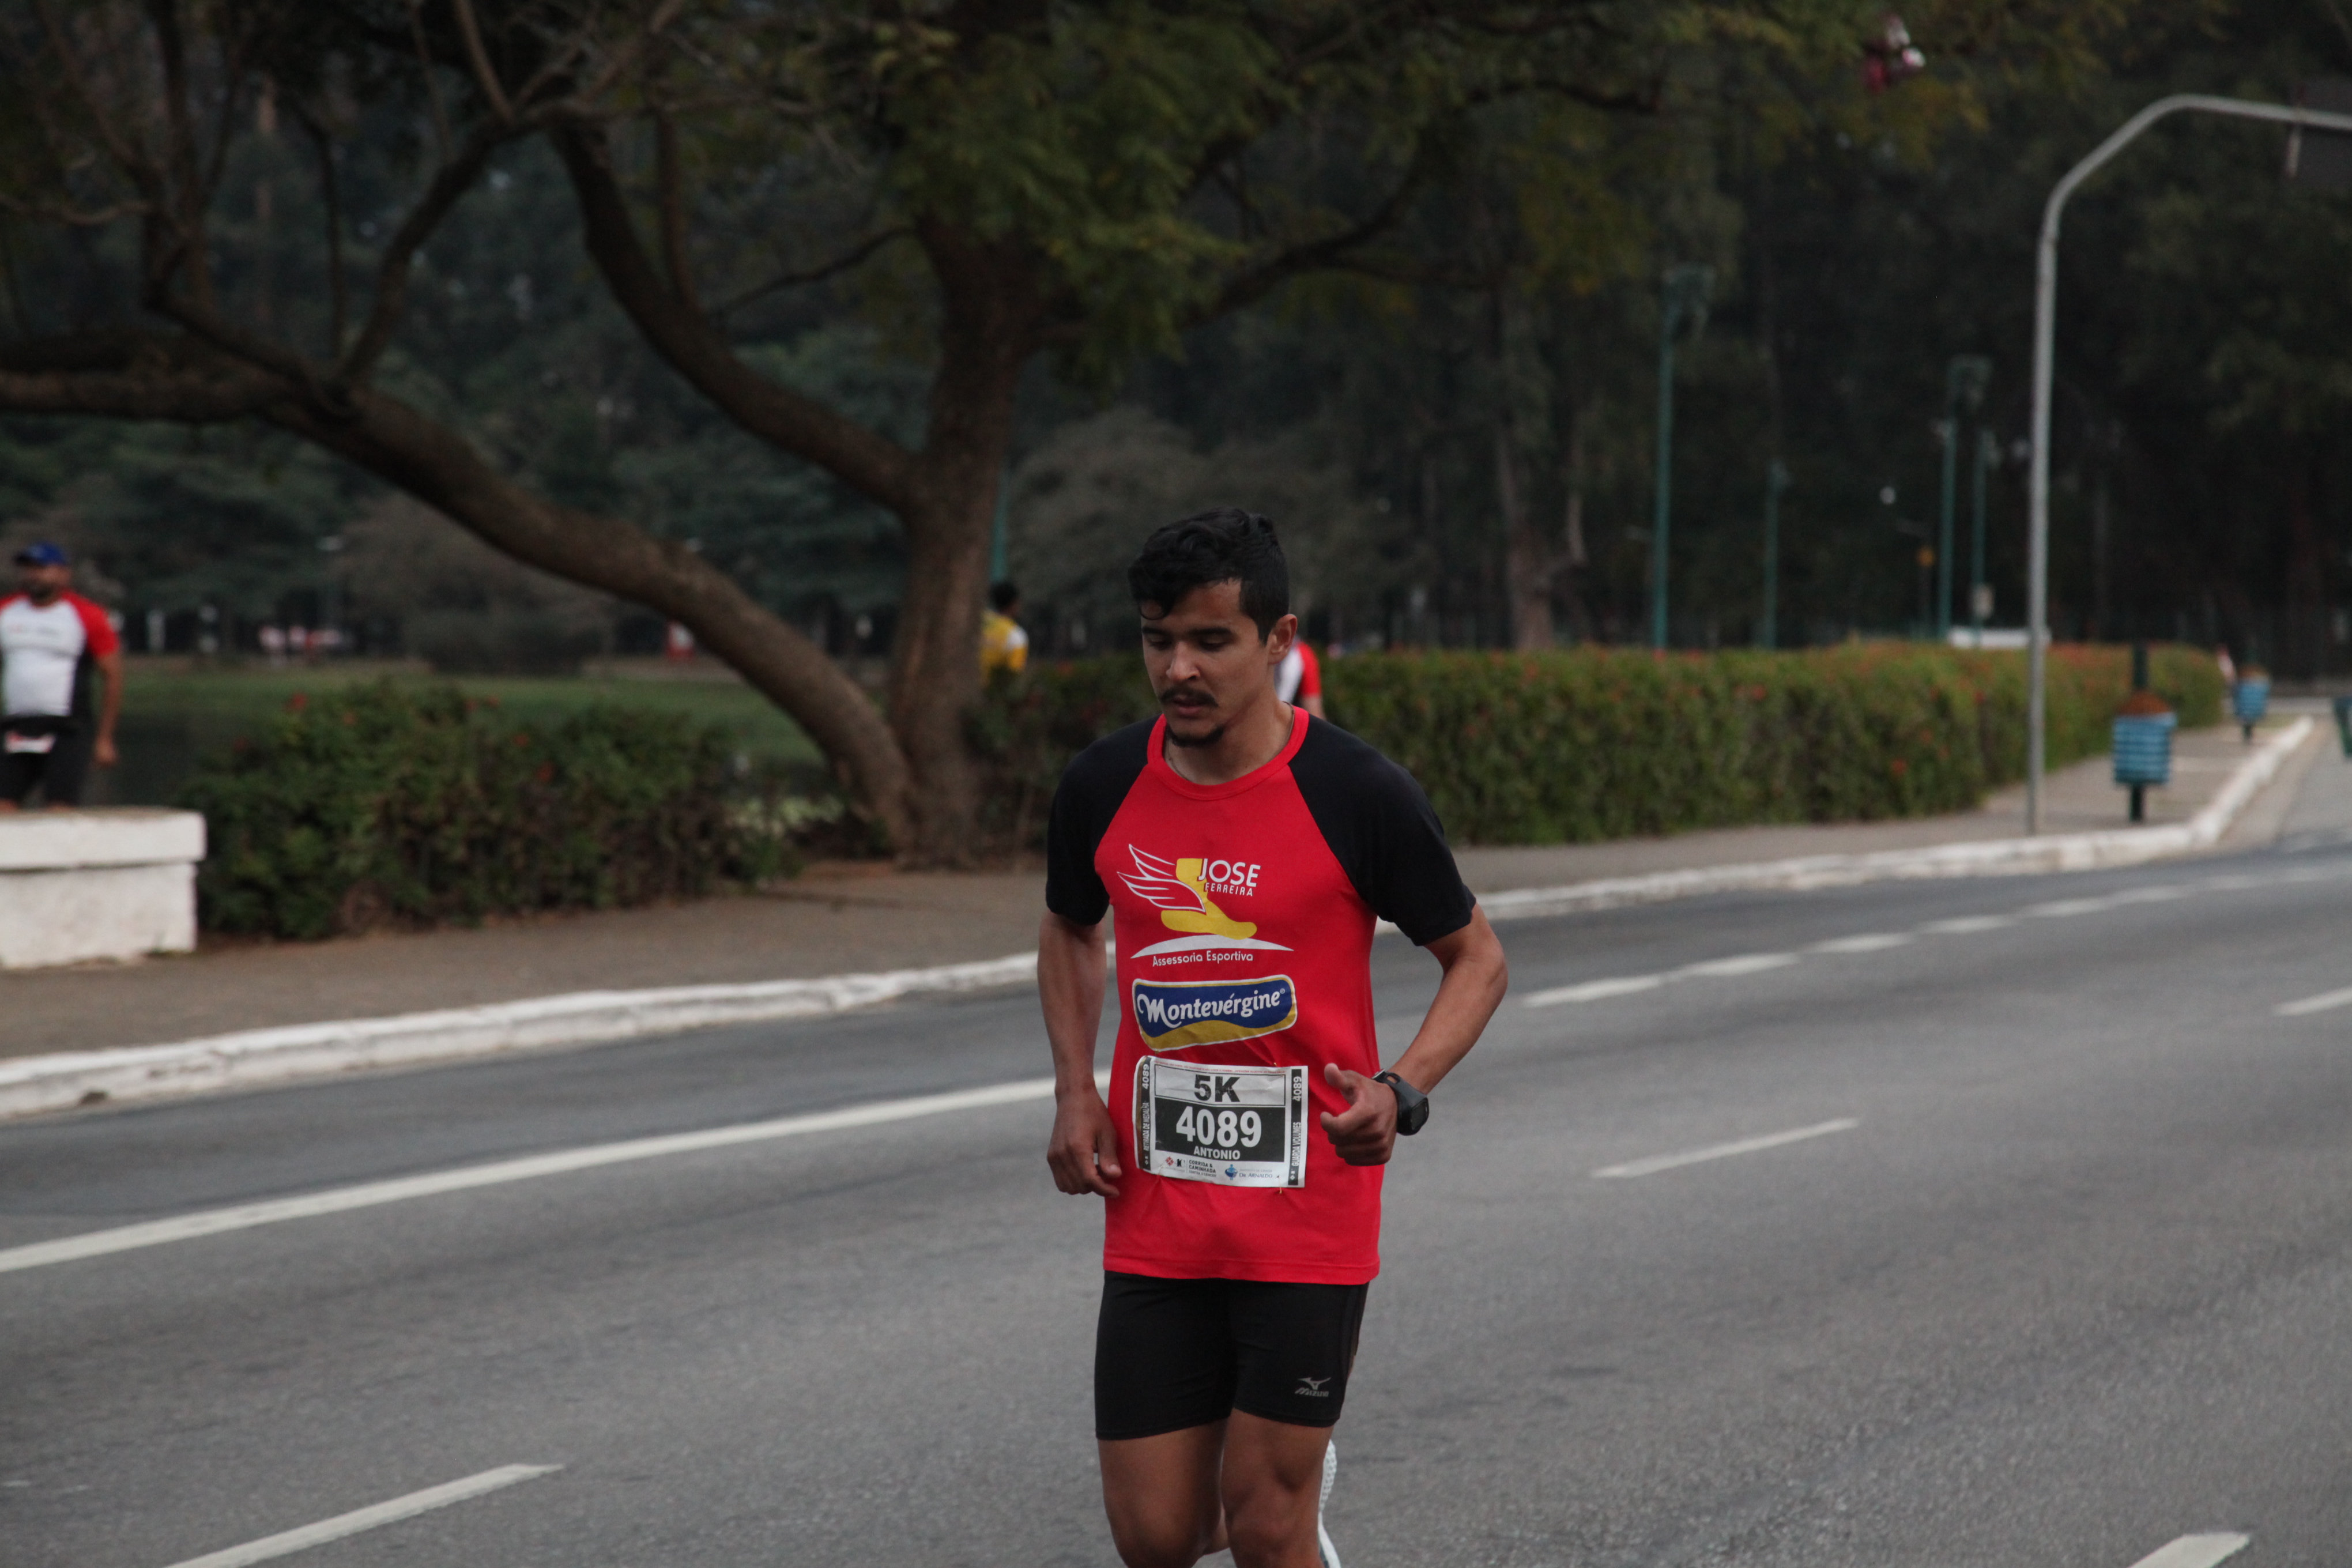bibtag: (1120, 1043, 1321, 1206)
